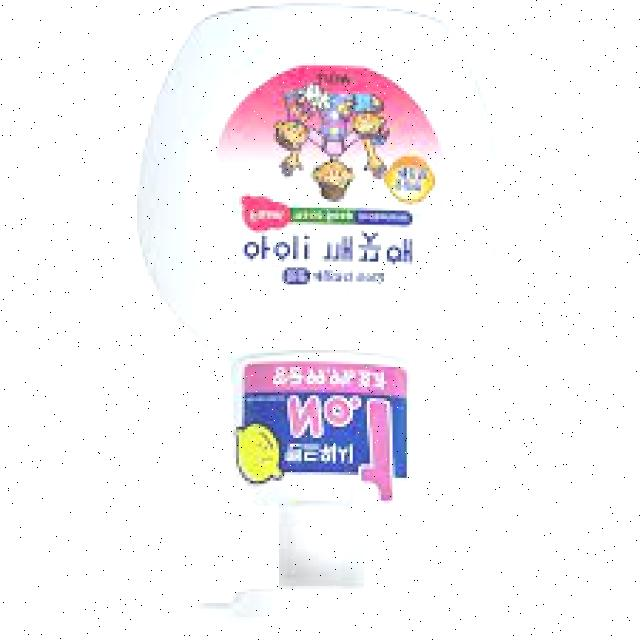liquid soap: (134, 0, 509, 637)
